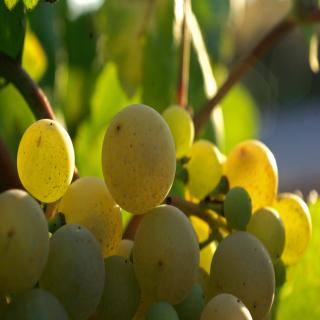Grape: (0, 103, 312, 320)
